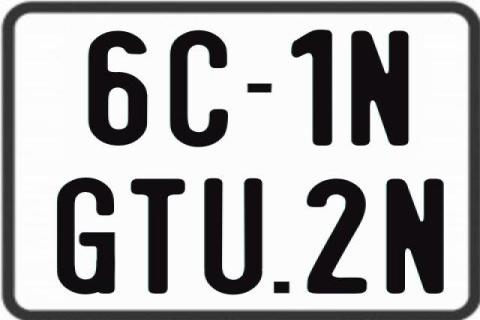0: (87, 31, 148, 148), (308, 179, 368, 295), (288, 30, 334, 146)
C: (169, 29, 233, 147)
G: (56, 175, 117, 297)
N: (348, 29, 407, 147), (386, 177, 444, 297)
T: (128, 177, 182, 297)
U: (202, 178, 261, 296)
